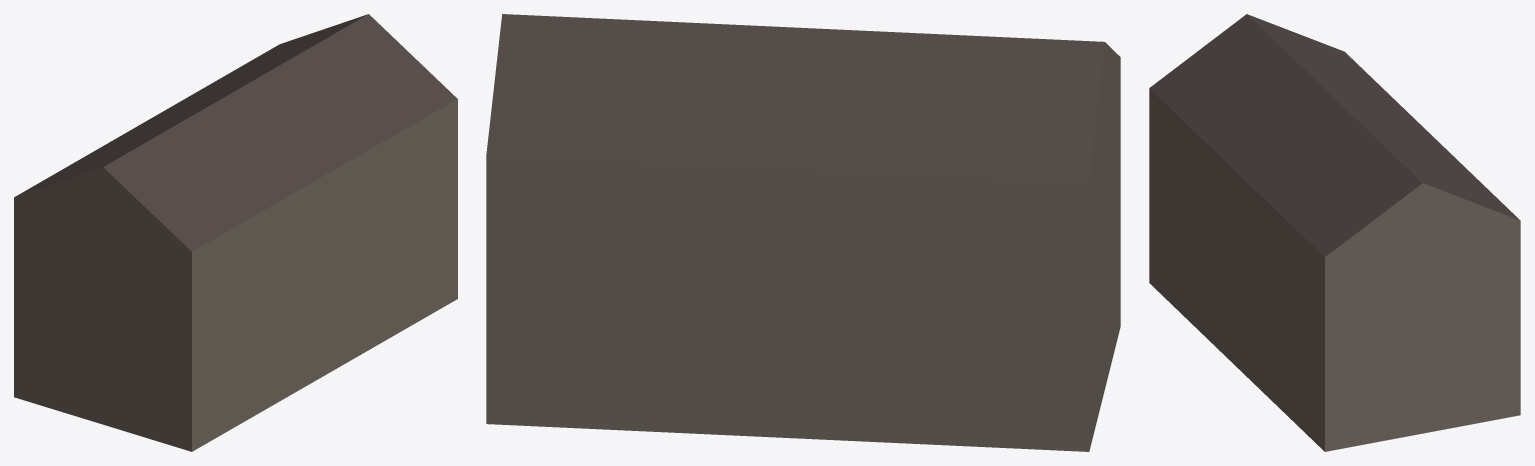
3 views of the same model, side by side, from view 1: azimuth 30°, elevation 25°; view 2: azimuth 150°, elevation 25°; view 3: azimuth 270°, elevation 25° (orthographic). The views are drawn at different scales.
Parts seen in each view (by area): view 1: HP-w408450736; view 2: HP-w408450736; view 3: HP-w408450736.
Part boxes in pixels (x1,y1,x2,y2): HP-w408450736: (14, 14, 457, 451); HP-w408450736: (486, 14, 1120, 451); HP-w408450736: (1149, 14, 1520, 451).
Bounding box in the file's own units: 13.62 × 7.73 × 10.39.
